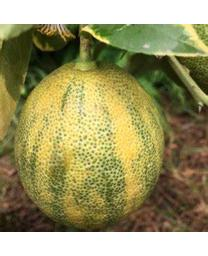lemon: (13, 62, 167, 230)
